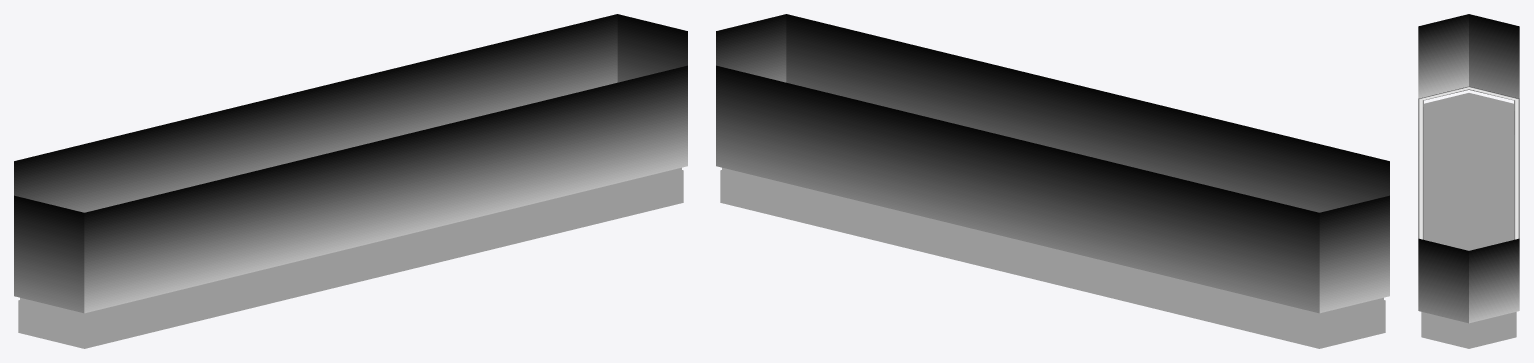
File: SpacebarButton.fbx
The picture shows the model from 3 angles, left to right: view 1: azimuth 30°, elevation 25°; view 2: azimuth 150°, elevation 25°; view 3: azimuth 270°, elevation 25°; orthographic projection. The views are drawn at different scales.
Parts seen in each view (by area): view 1: GlowCylinder1, ThrowIndicator1, ButtonFace; view 2: GlowCylinder1, ThrowIndicator1, ButtonFace; view 3: GlowCylinder1, ButtonFace, ThrowIndicator1, ButtonOutline1.
Boxes of the visible parts, box(x1,y1,x2,y2) form: GlowCylinder1: box(14, 14, 687, 313); ThrowIndicator1: box(18, 170, 683, 348); ButtonFace: box(20, 167, 681, 316); GlowCylinder1: box(716, 14, 1389, 313); ThrowIndicator1: box(720, 170, 1385, 348); ButtonFace: box(722, 167, 1383, 316); GlowCylinder1: box(1418, 14, 1519, 323); ButtonFace: box(1422, 93, 1515, 325); ThrowIndicator1: box(1421, 312, 1516, 348); ButtonOutline1: box(1418, 86, 1519, 239).
Size of the model in its own units: 19.85 by 3.89 by 3.59.
Materials: 4 (2 with a texture image).
